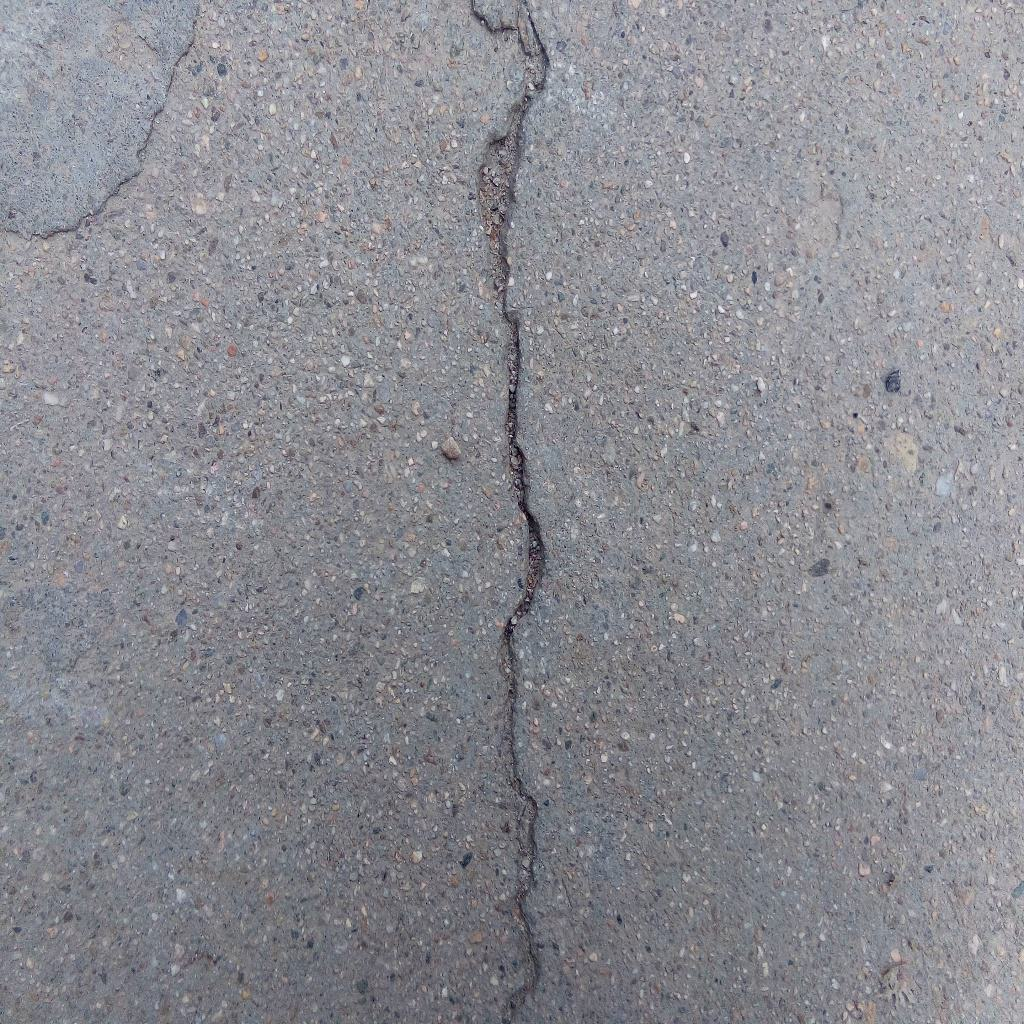Crack: (477, 1, 552, 1024)
